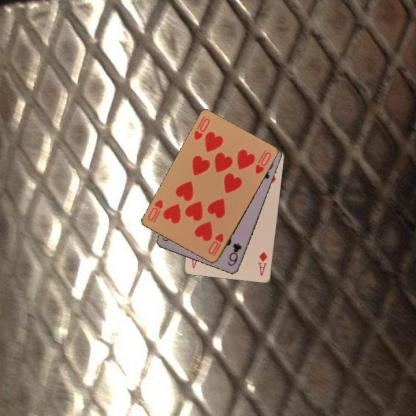10h: (205, 230, 226, 258), (191, 116, 211, 142)
6c: (224, 240, 242, 270)
Ad: (255, 249, 269, 276)
